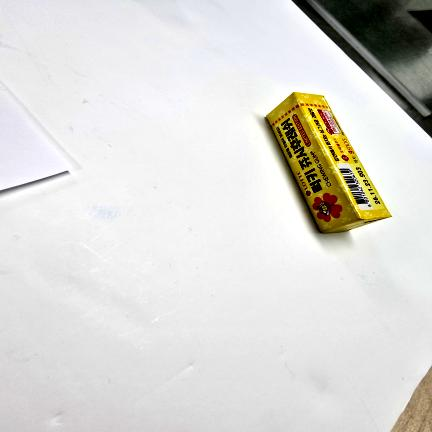gum_yellow: (267, 93, 391, 233)
